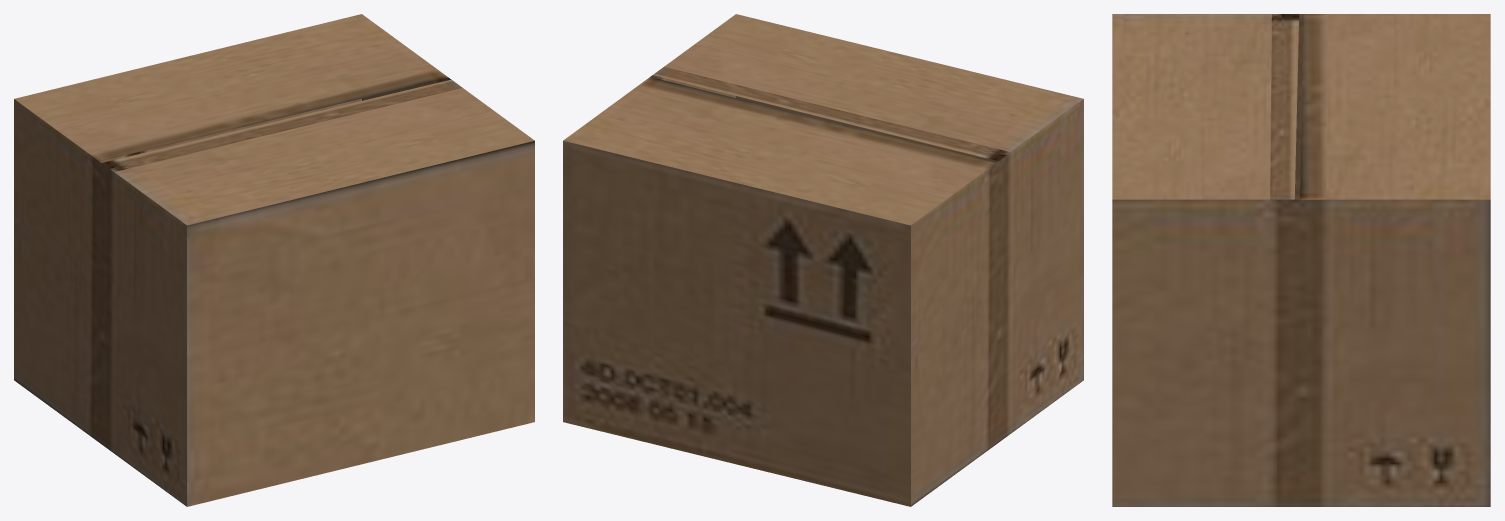
File: Caja.obj
3 renders of one model, left to right at view 1: azimuth 30°, elevation 25°; view 2: azimuth 150°, elevation 25°; view 3: azimuth 270°, elevation 25°, orthographic. The views are drawn at different scales.
Parts seen in each view (by area): view 1: Caja; view 2: Caja; view 3: Caja.
Part boxes in pixels (<box>): Caja: <box>14,14,534,506</box>; Caja: <box>563,14,1083,506</box>; Caja: <box>1112,14,1490,506</box>.
Size of the model in its own units: 0.8431 by 0.6517 by 0.7265.
1 material, 1 textured.
